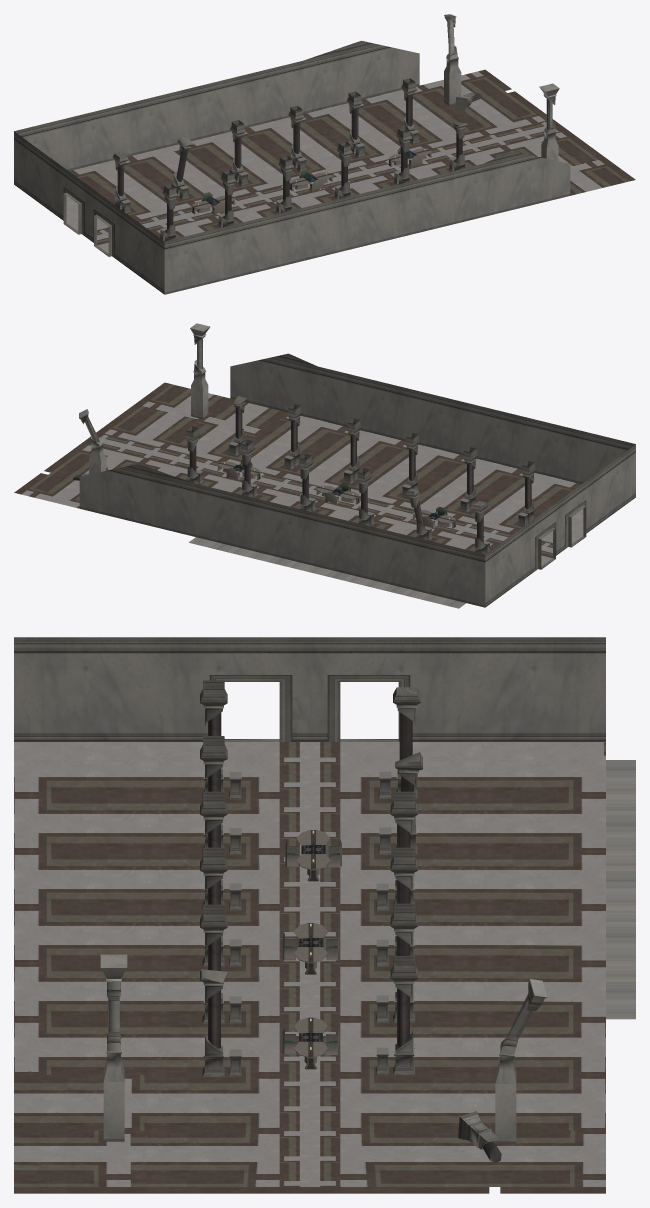
Rendered from Cor1_bldg_library.fbx.
3 renders of one model, top to bottom at view 1: azimuth 30°, elevation 25°; view 2: azimuth 150°, elevation 25°; view 3: azimuth 270°, elevation 25°, orthographic. The views are drawn at different scales.
Visible parts, largest first — view 1: Main_library, polymsh1388, polymsh1217, polymsh1421; view 2: Main_library, polymsh1388, polymsh1217, polymsh1421; view 3: Main_library, polymsh1388, polymsh1217, polymsh1421.
Boxes of the visible parts, <box> form: Main_library: <box>14,40,635,294</box>; polymsh1388: <box>113,78,482,241</box>; polymsh1217: <box>444,14,559,161</box>; polymsh1421: <box>192,147,431,214</box>; Main_library: <box>14,353,635,608</box>; polymsh1388: <box>73,396,536,554</box>; polymsh1217: <box>79,323,210,474</box>; polymsh1421: <box>217,460,456,528</box>; Main_library: <box>14,637,635,1193</box>; polymsh1388: <box>200,680,501,1163</box>; polymsh1217: <box>100,954,547,1143</box>; polymsh1421: <box>282,830,341,1069</box>.
Size of what is drawn, in the model's own units: 6516 by 1178 by 3766.
